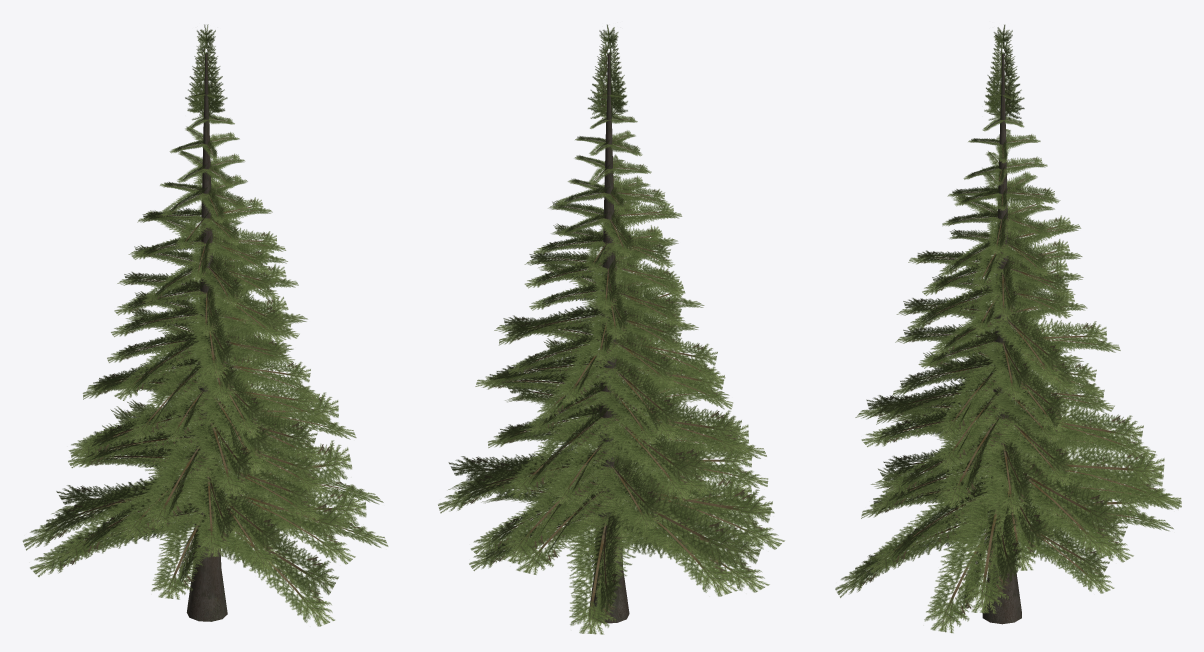
Rendered from fir_a.glb.
3 views of the same model, side by side, from view 1: azimuth 30°, elevation 25°; view 2: azimuth 150°, elevation 25°; view 3: azimuth 270°, elevation 25° (orthographic).
Visible parts, largest first — view 1: Foliage, Trunk, FoliageTip; view 2: Foliage, Trunk, FoliageTip; view 3: Foliage, Trunk, FoliageTip.
Boxes of the visible parts, box(x1,y1,x2,y2) form: Foliage: box(22, 89, 388, 626); Trunk: box(186, 54, 227, 621); FoliageTip: box(185, 24, 227, 120); Foliage: box(438, 93, 784, 634); Trunk: box(589, 53, 629, 623); FoliageTip: box(587, 24, 627, 120); Foliage: box(835, 93, 1181, 633); Trunk: box(982, 53, 1021, 624); FoliageTip: box(984, 24, 1024, 120).
Bounding box in the file's own units: 8.52 × 14.28 × 7.98.
3 materials, 3 textured.
